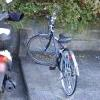bicycles: (26, 13, 80, 96)
